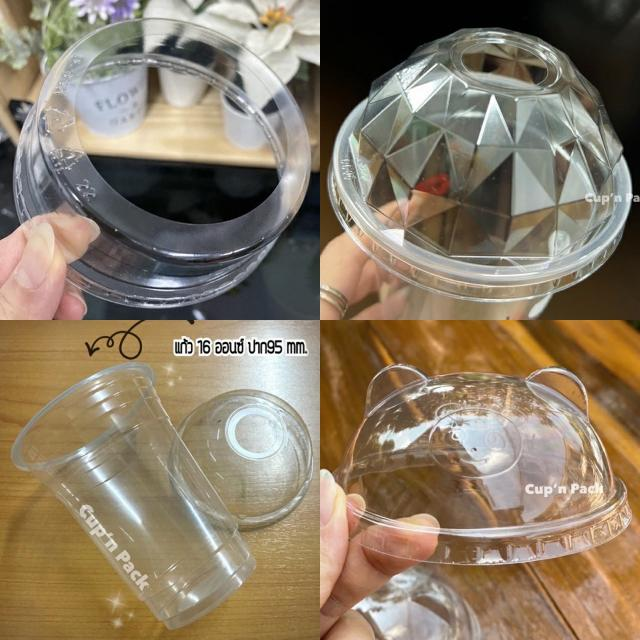Single-Use-Plastic: (329, 29, 631, 319), (15, 19, 311, 308), (11, 362, 255, 629), (336, 365, 631, 564), (168, 390, 312, 529)
